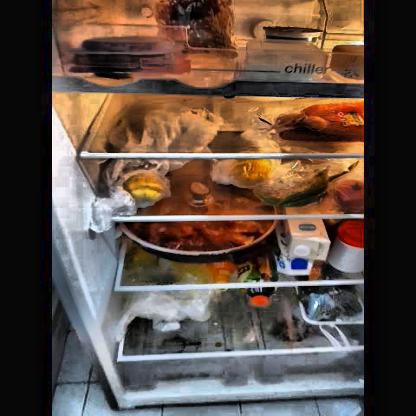broccoli: (300, 288, 362, 324)
butter: (333, 44, 363, 79)
carrot: (272, 106, 363, 142)
cheese: (242, 42, 325, 80)
green_chillies: (257, 183, 332, 209)
lemon: (126, 169, 169, 203), (231, 159, 273, 185)
milk: (275, 220, 329, 274)
salami: (78, 31, 170, 56)
tomato: (329, 180, 364, 208)
yoghurt: (264, 24, 323, 44)
